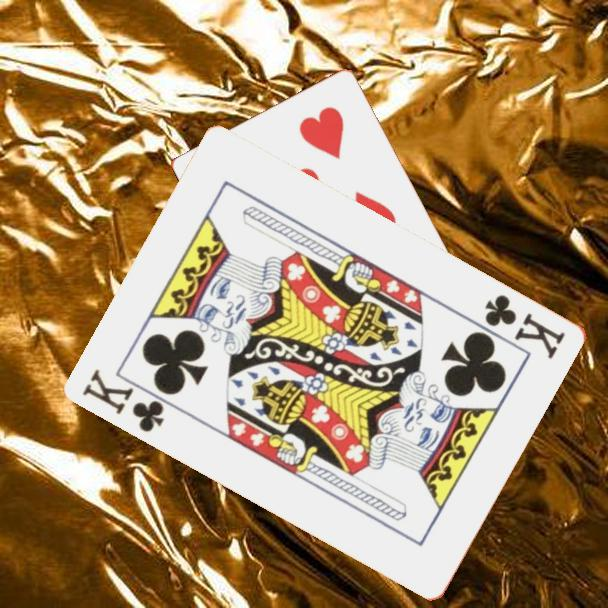c13: (481, 290, 569, 362), (79, 365, 168, 436)
